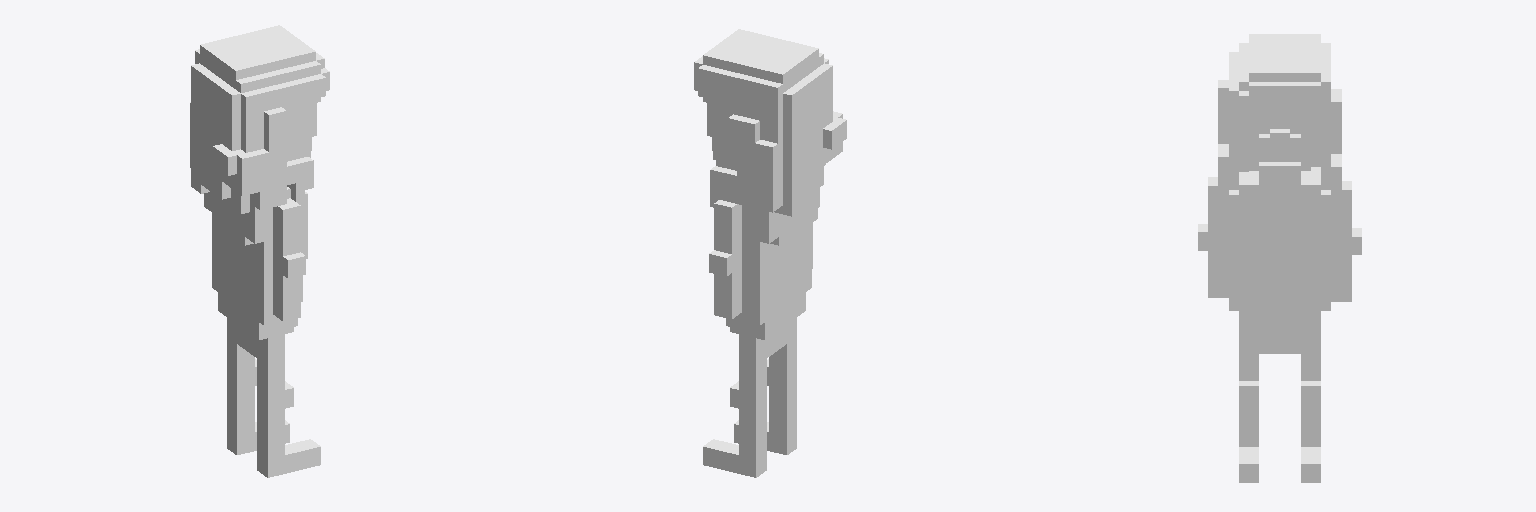
Rendered from SBlack_HGinger.obj.
3 views of the same model, side by side, from view 1: azimuth 30°, elevation 25°; view 2: azimuth 150°, elevation 25°; view 3: azimuth 270°, elevation 25° (orthographic).
Visible parts, largest first — view 1: object 1; view 2: object 1; view 3: object 1.
Boxes of the visible parts, box(x1,y1,x2,y2) form: object 1: box(190, 25, 329, 477); object 1: box(694, 29, 846, 477); object 1: box(1198, 34, 1361, 482).
Size of the model in its own units: 1.2 by 4.4 by 1.6.